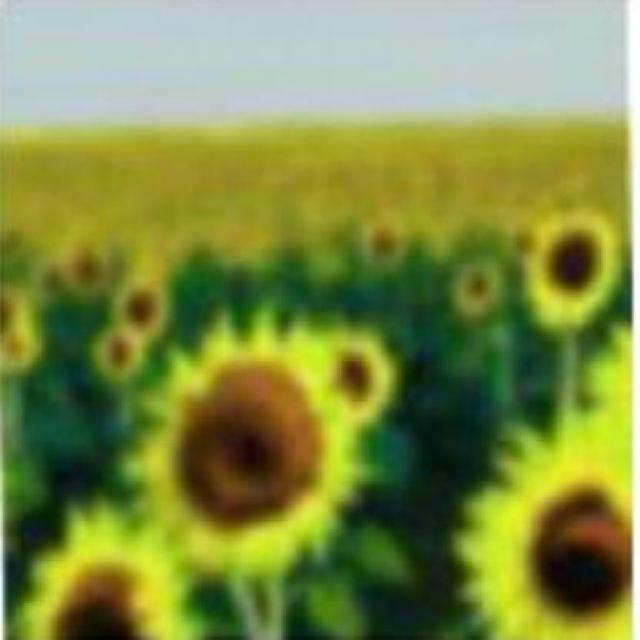sunflower: (130, 336, 352, 569)
